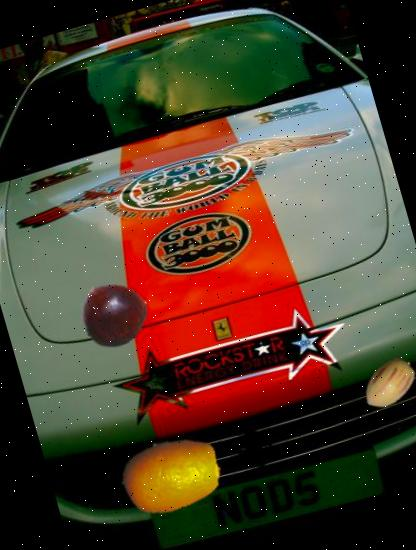Chestnut: (73, 272, 156, 354)
Kumquats: (109, 413, 234, 538)
Pepino: (353, 347, 416, 419)
